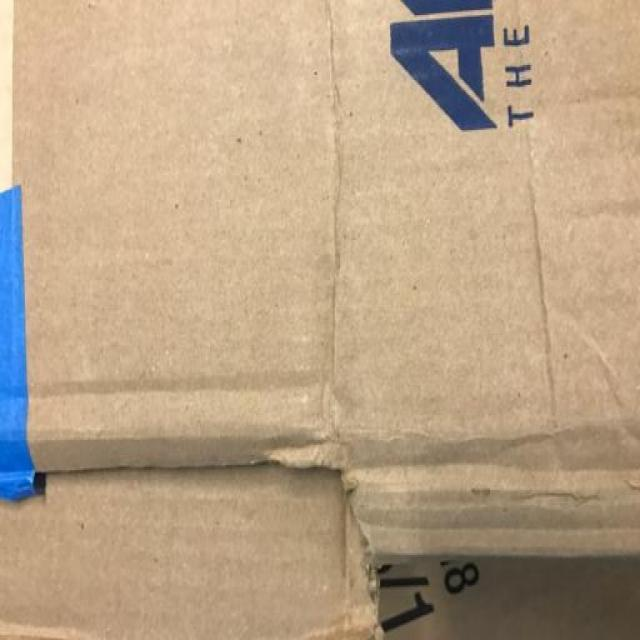cardboard paper: (14, 0, 638, 554)
